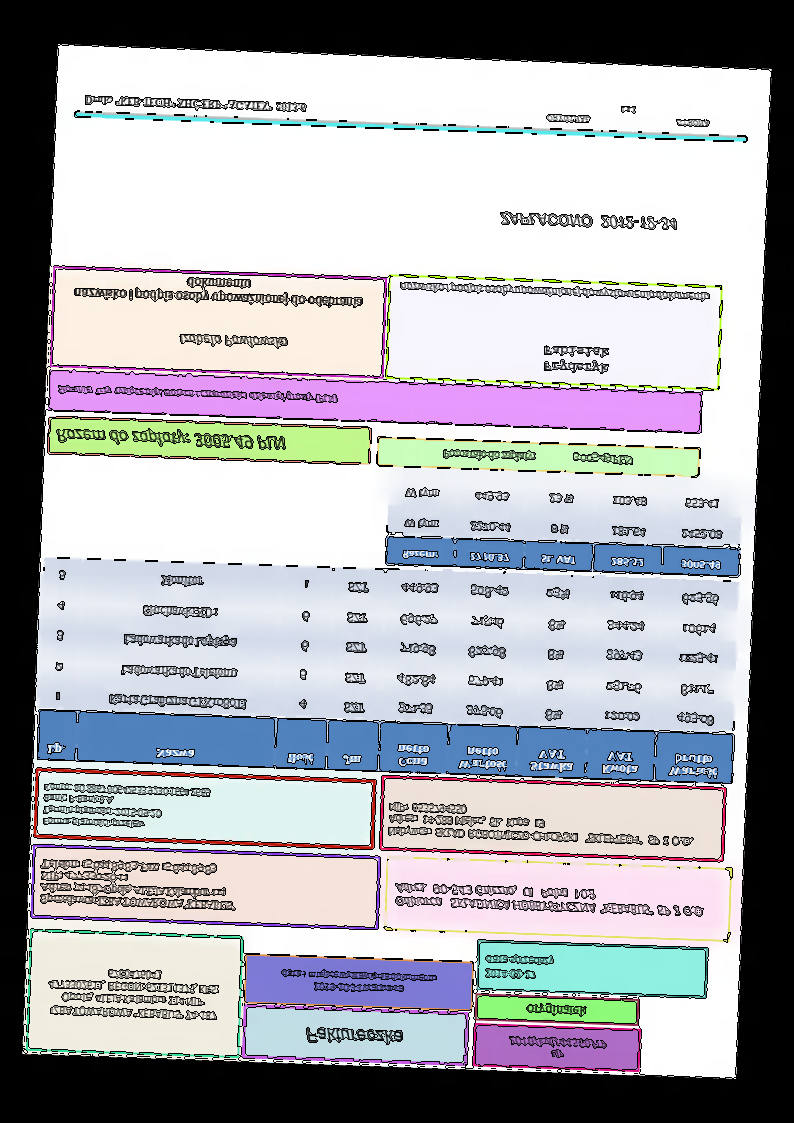Table: (35, 555, 740, 785), (383, 473, 745, 579)
TextBox: (386, 800, 696, 849), (391, 881, 708, 919), (37, 856, 239, 915), (72, 271, 364, 310), (45, 965, 222, 1024), (40, 782, 211, 834), (397, 279, 712, 306), (54, 427, 288, 454), (56, 383, 340, 405), (81, 92, 309, 115), (278, 966, 439, 997), (546, 102, 711, 130), (497, 208, 680, 233), (440, 446, 635, 468), (506, 1031, 609, 1063), (540, 344, 613, 376), (483, 950, 555, 982), (305, 1025, 404, 1048), (178, 332, 290, 350), (523, 1001, 589, 1019)
